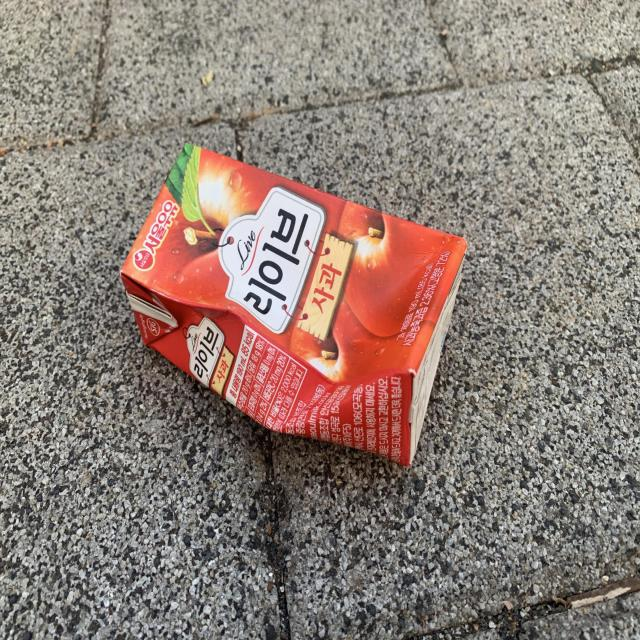paperpack: (120, 143, 466, 466)
